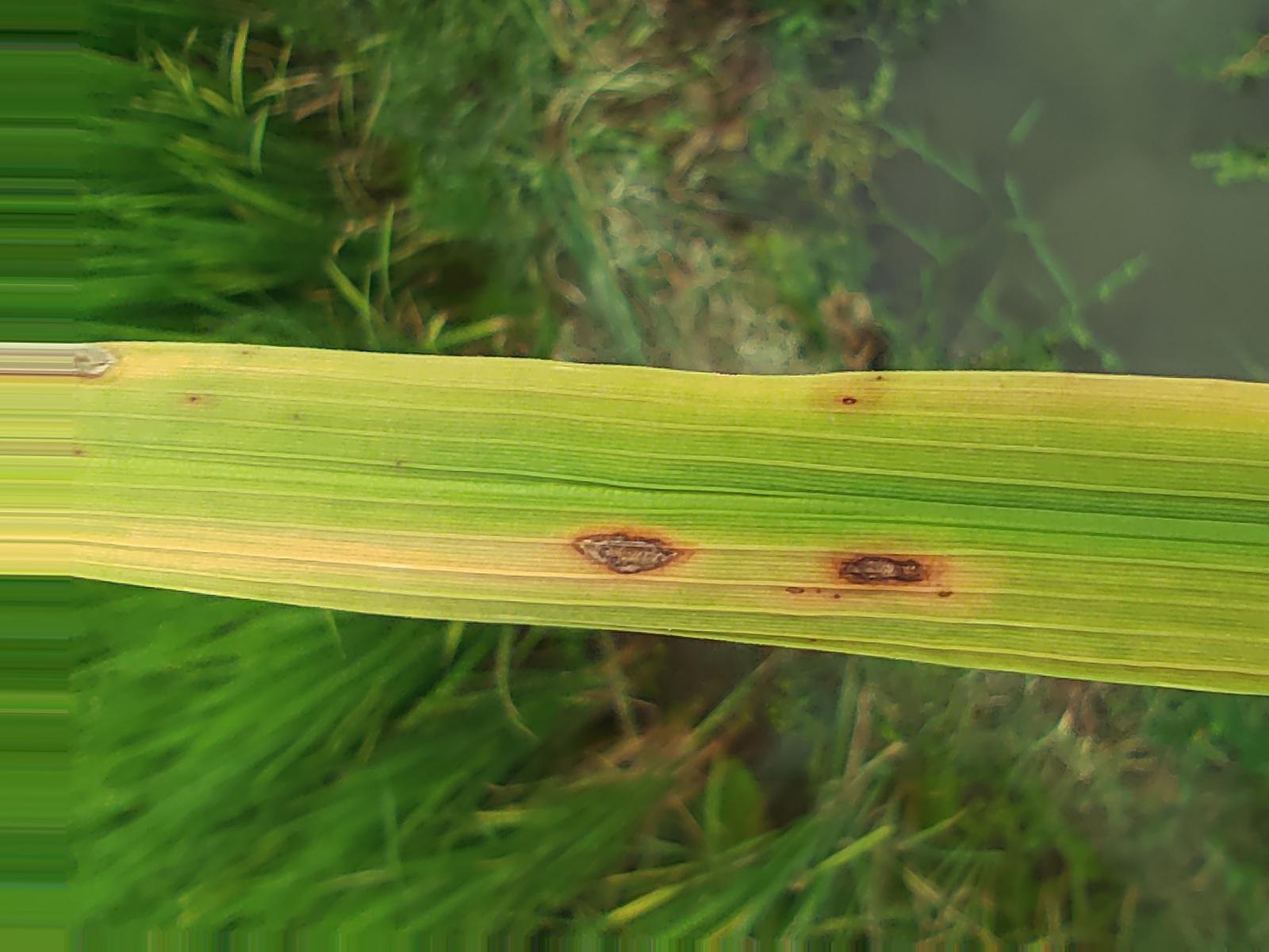LEAF: (72, 341, 1268, 693)
NBS: (178, 394, 218, 407), (74, 448, 90, 458), (841, 396, 857, 405), (394, 459, 408, 468), (805, 635, 820, 643), (786, 587, 805, 593), (939, 590, 953, 597), (876, 374, 884, 380), (814, 589, 820, 596), (834, 594, 841, 599)
